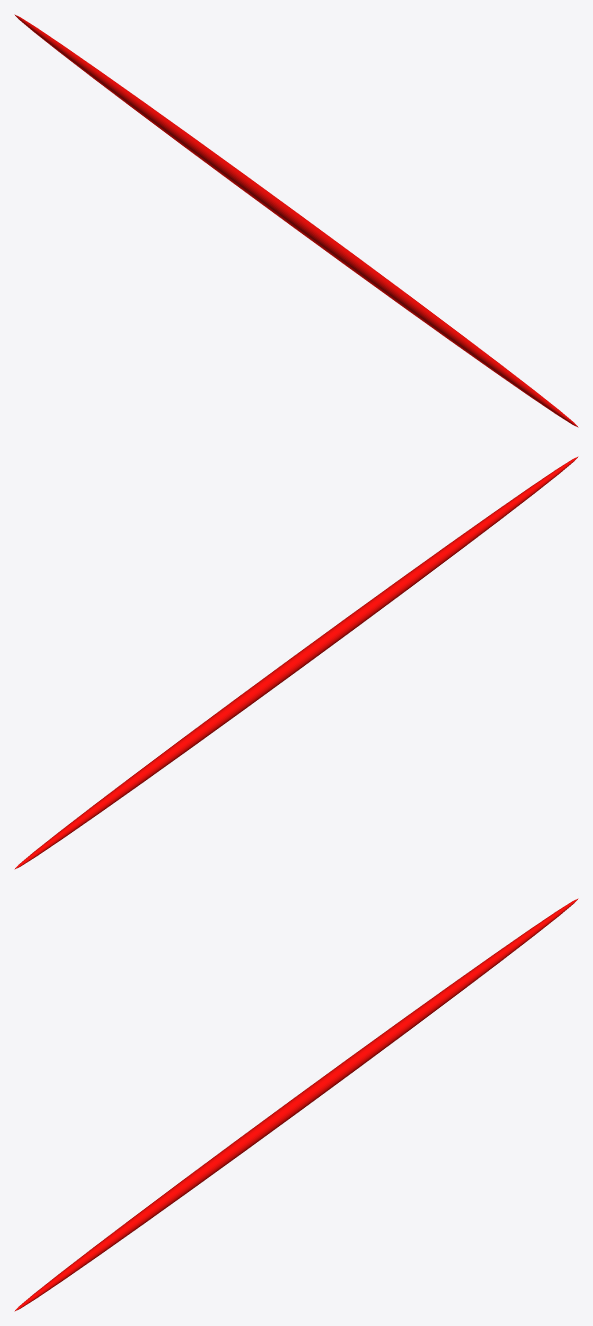
Rendered from Laser.fbx.
3 views of the same model, one above another, from view 1: azimuth 30°, elevation 25°; view 2: azimuth 150°, elevation 25°; view 3: azimuth 330°, elevation 25° (orthographic).
Visible parts, largest first — view 1: Sphere; view 2: Sphere; view 3: Sphere.
Boxes of the visible parts, x1,y1,x2,y2 form: Sphere: [14, 14, 578, 427]; Sphere: [14, 456, 578, 869]; Sphere: [14, 898, 578, 1311].
Bounding box in the file's own units: 20 × 1600 × 20.
